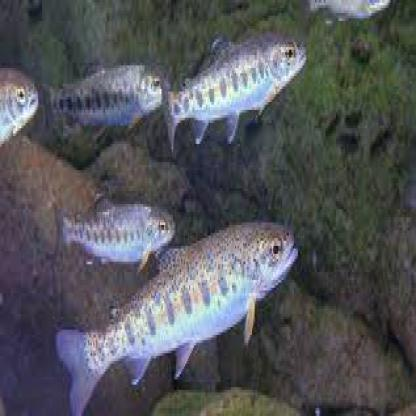fish: (53, 216, 298, 414), (155, 22, 307, 146), (47, 187, 178, 272), (40, 56, 172, 136)
